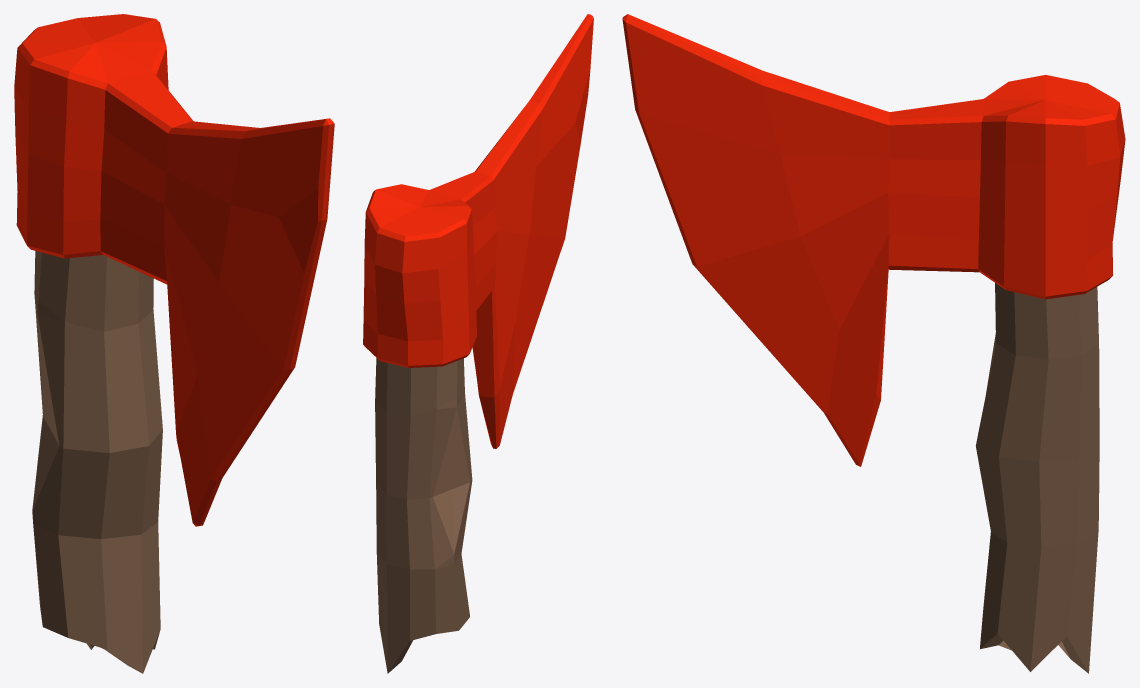
File: Axe_02_Destroyed_Red.fbx
3 renders of one model, left to right at view 1: azimuth 30°, elevation 25°; view 2: azimuth 150°, elevation 25°; view 3: azimuth 270°, elevation 25°, orthographic. The views are drawn at different scales.
Visible parts, largest first — view 1: Axe_02_Destroyed_Red; view 2: Axe_02_Destroyed_Red; view 3: Axe_02_Destroyed_Red.
Boxes of the visible parts, x1,y1,x2,y2 form: Axe_02_Destroyed_Red: [14, 14, 334, 673]; Axe_02_Destroyed_Red: [363, 14, 593, 673]; Axe_02_Destroyed_Red: [622, 14, 1125, 673].
Size of the model in its own units: 13.94 by 70.65 by 49.54.
